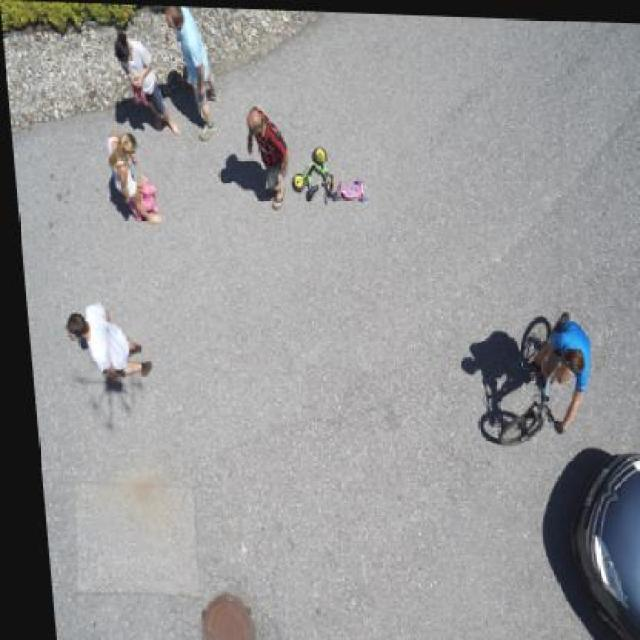Person: (51, 288, 152, 397), (528, 312, 597, 439), (166, 5, 222, 138), (97, 126, 169, 226), (108, 14, 169, 129), (243, 96, 299, 216)
